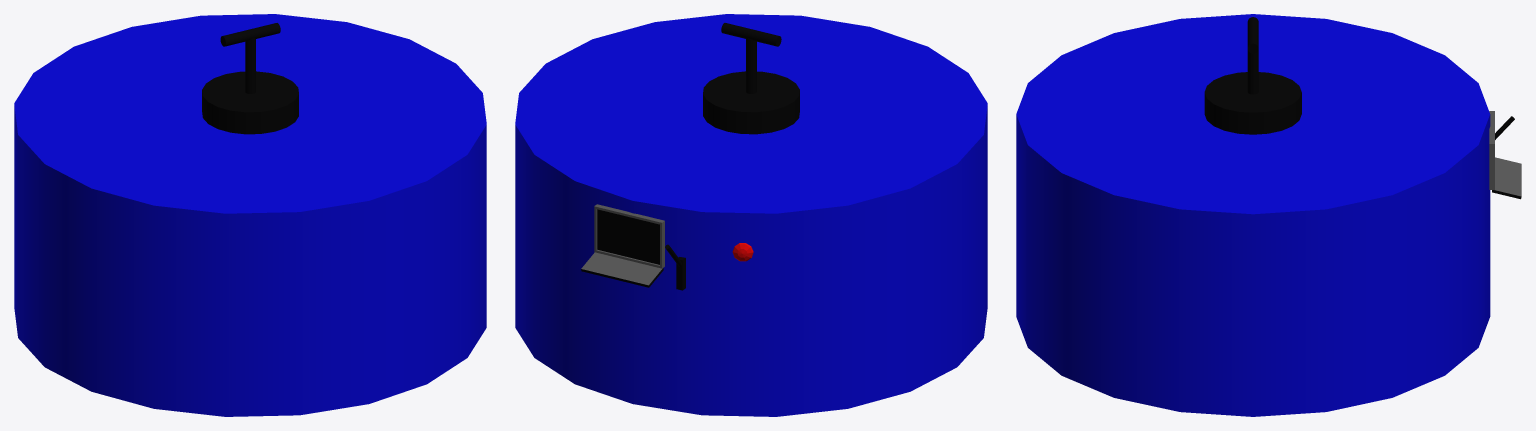
File: Pump.fbx
3 views of the same model, side by side, from view 1: azimuth 30°, elevation 25°; view 2: azimuth 150°, elevation 25°; view 3: azimuth 270°, elevation 25° (orthographic).
Visible parts, largest first — view 1: polySurface101, polySurface100; view 2: polySurface101, polySurface100; view 3: polySurface101, polySurface100.
Part boxes in pixels (x1,y1,x2,y2): polySurface101: (14,14,486,416); polySurface100: (202,23,298,134); polySurface101: (515,14,987,416); polySurface100: (703,23,799,134); polySurface101: (1016,14,1521,416); polySurface100: (1204,17,1301,134).
Size of the model in its own units: 9.74 by 6.5 by 10.39.
